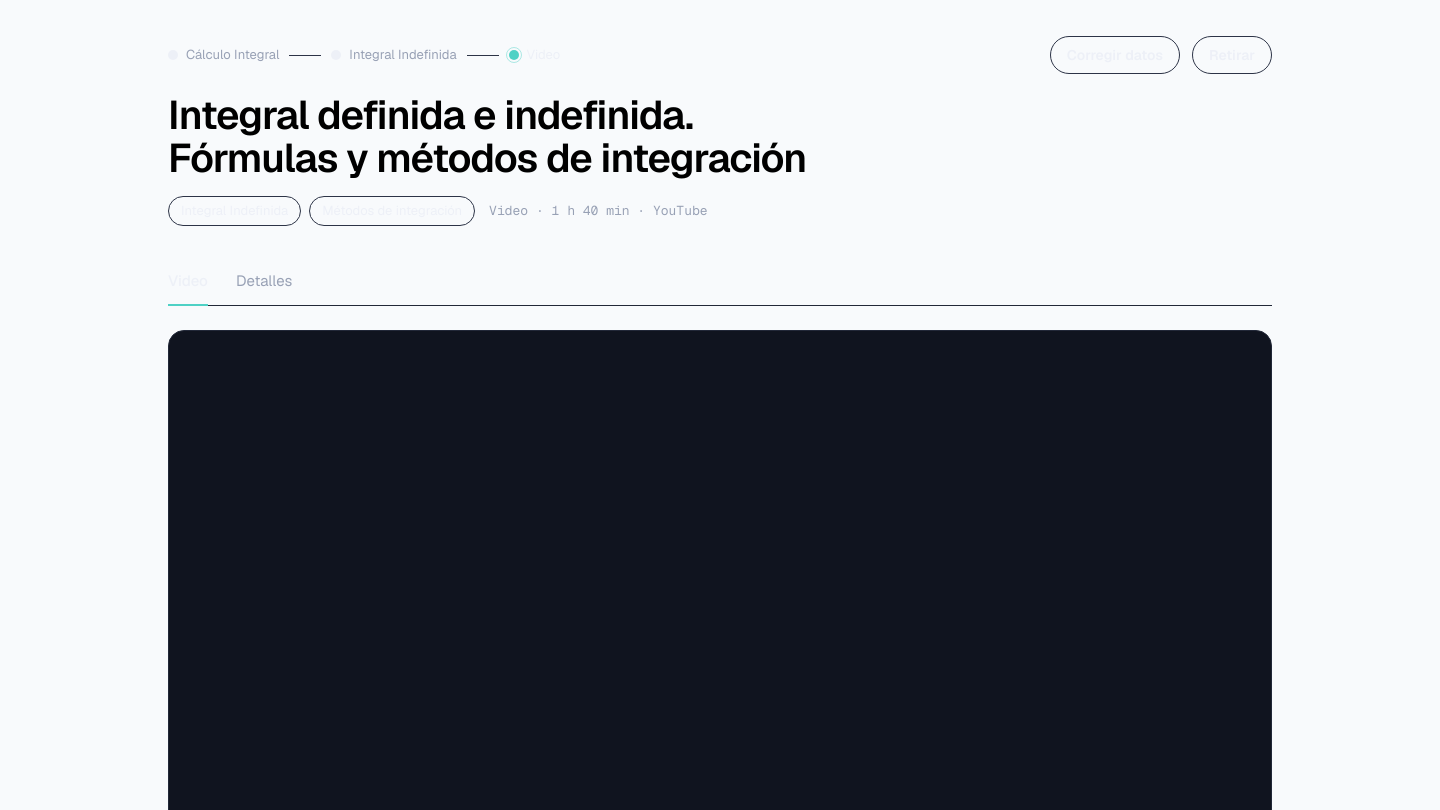
Test: ResourceDetailPage: retirar y volver a publicar › si falla el token CSRF, pide recargar la página sin tratarlo como falta de permiso
Click the button "Retirar". click: click(1232, 55)
box: [1192, 36, 1272, 74]
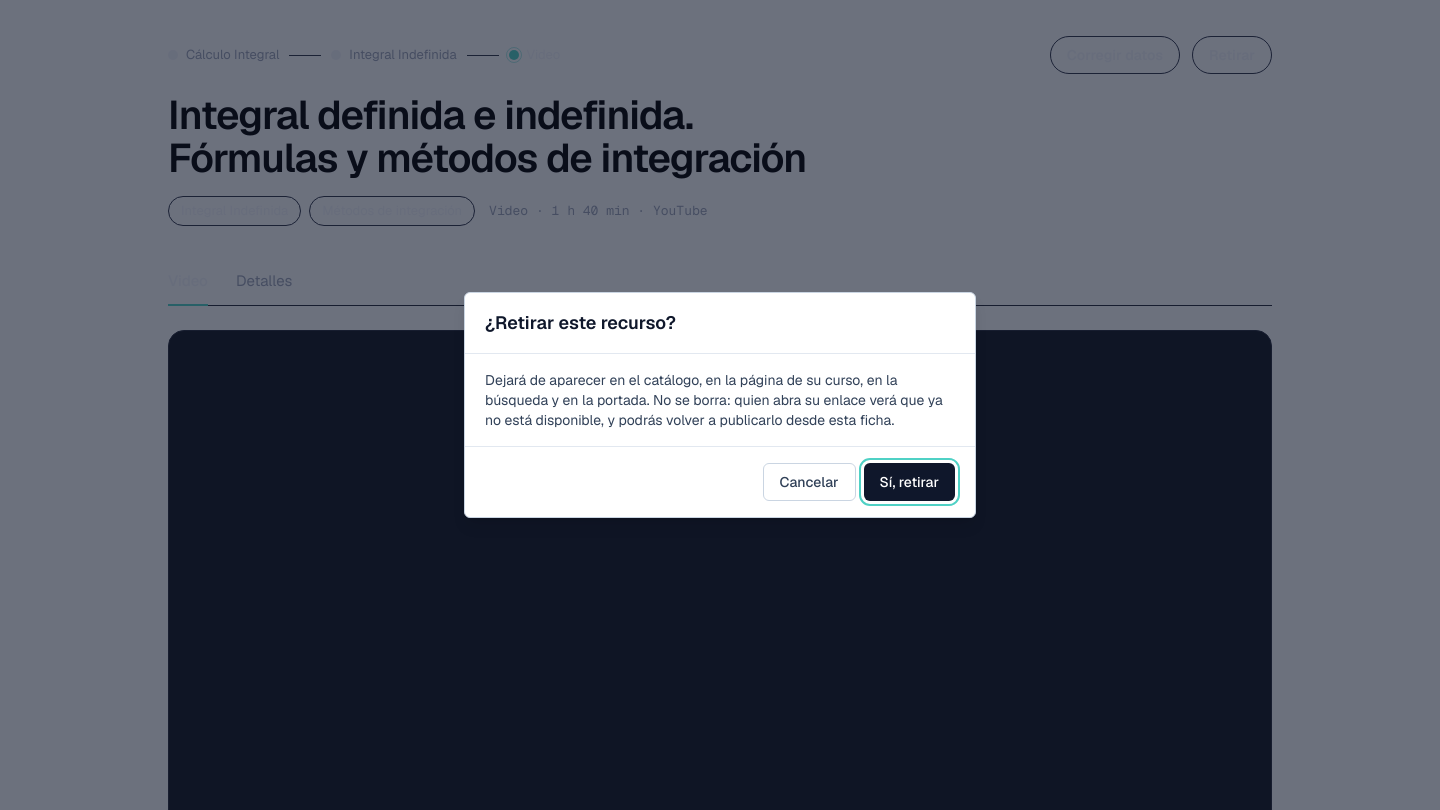
Click the button "Sí, retirar". click: click(909, 482)
box: [864, 463, 955, 501]
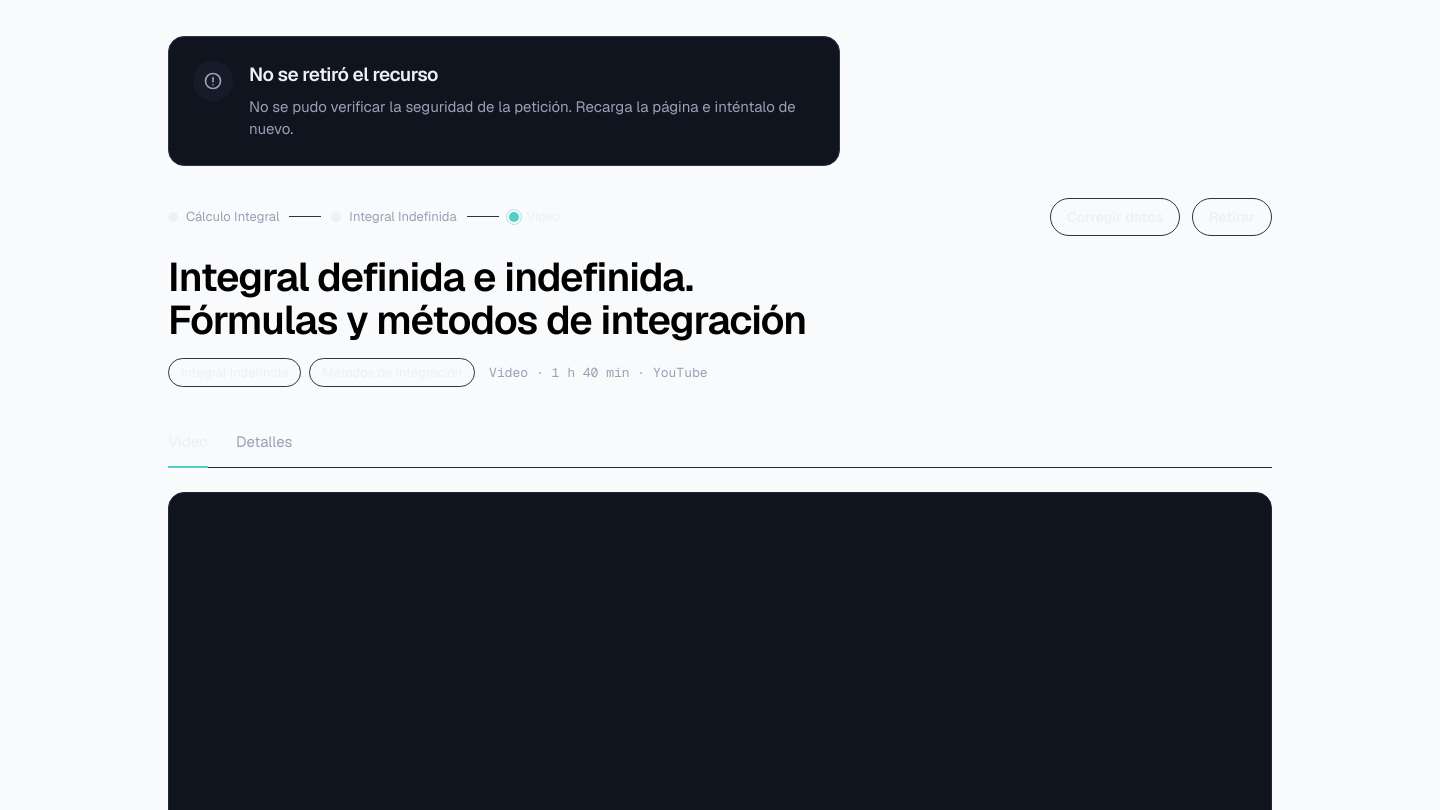
Expected: the button "Retirar" is enabled, [1192, 198, 1272, 236]
Expected: the message shows "Recarga la página e inténtalo de nuevo.", [249, 96, 796, 138]
